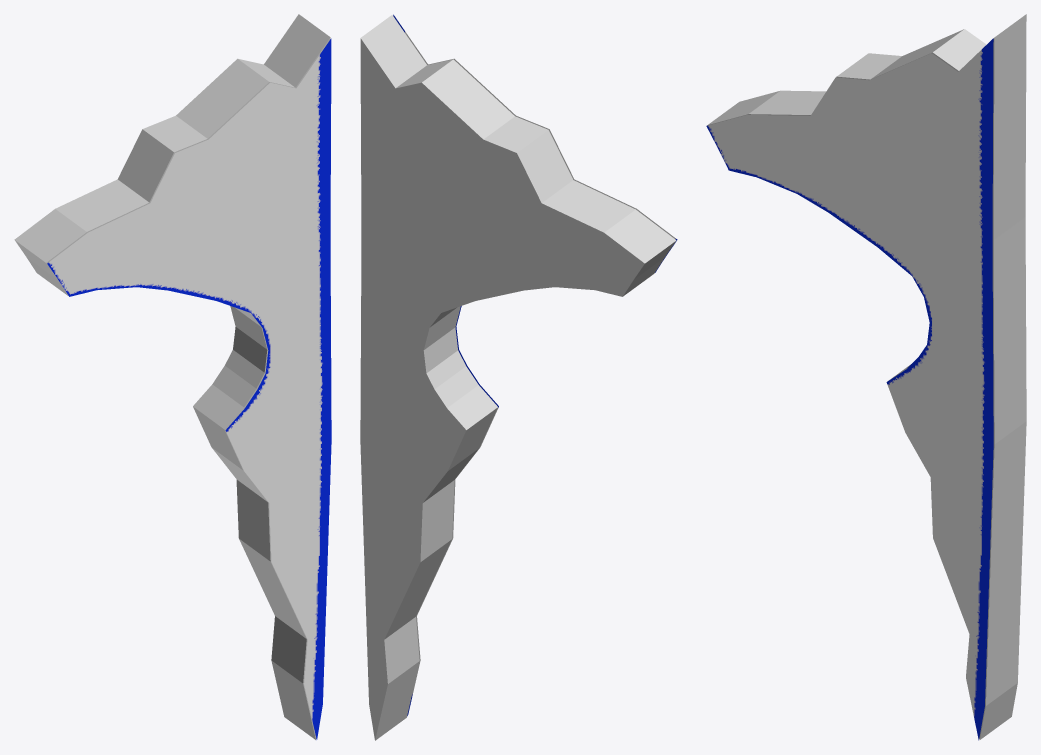
The picture shows the model from 3 angles, left to right: view 1: azimuth 30°, elevation 25°; view 2: azimuth 150°, elevation 25°; view 3: azimuth 330°, elevation 25°; orthographic projection.
Parts seen in each view (by area): view 1: Out_3_1, Out_3_0; view 2: Out_3_0, Out_3_1; view 3: Out_3_1, Out_3_0.
Boxes of the visible parts, <box> form: Out_3_1: <box>47,38,331,739</box>; Out_3_0: <box>14,14,330,739</box>; Out_3_0: <box>360,15,676,740</box>; Out_3_1: <box>393,14,677,716</box>; Out_3_1: <box>706,38,993,740</box>; Out_3_0: <box>707,14,1026,739</box>.
Size of the model in its own units: 2.59 by 6.08 by 0.515.
2 materials, 1 textured.
